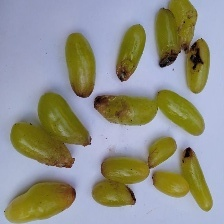grapes: (21, 56, 191, 192)
